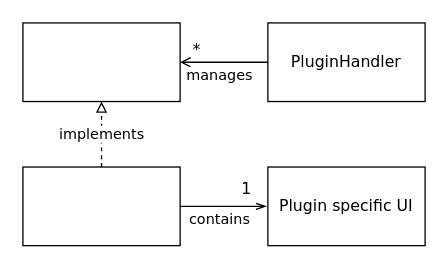
Some shapes in this 448 by 269 pixel diagram are drawn without their labels. Each missing label, with the centre of its shape:
<<if>> AdPlugin: the point at 101,62
Plugin Implementation: the point at 101,206
